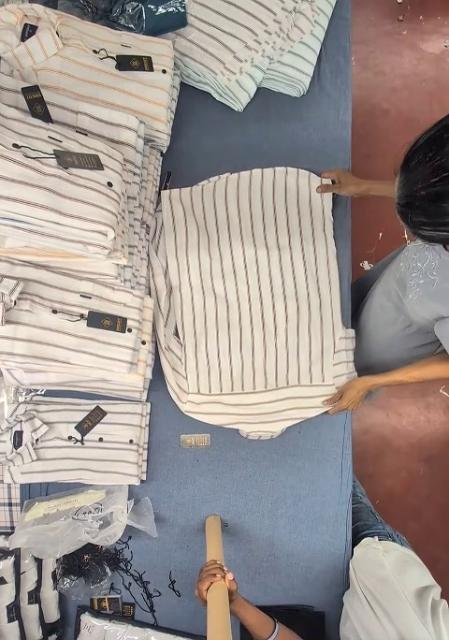new-garment: (150, 167, 355, 436)
